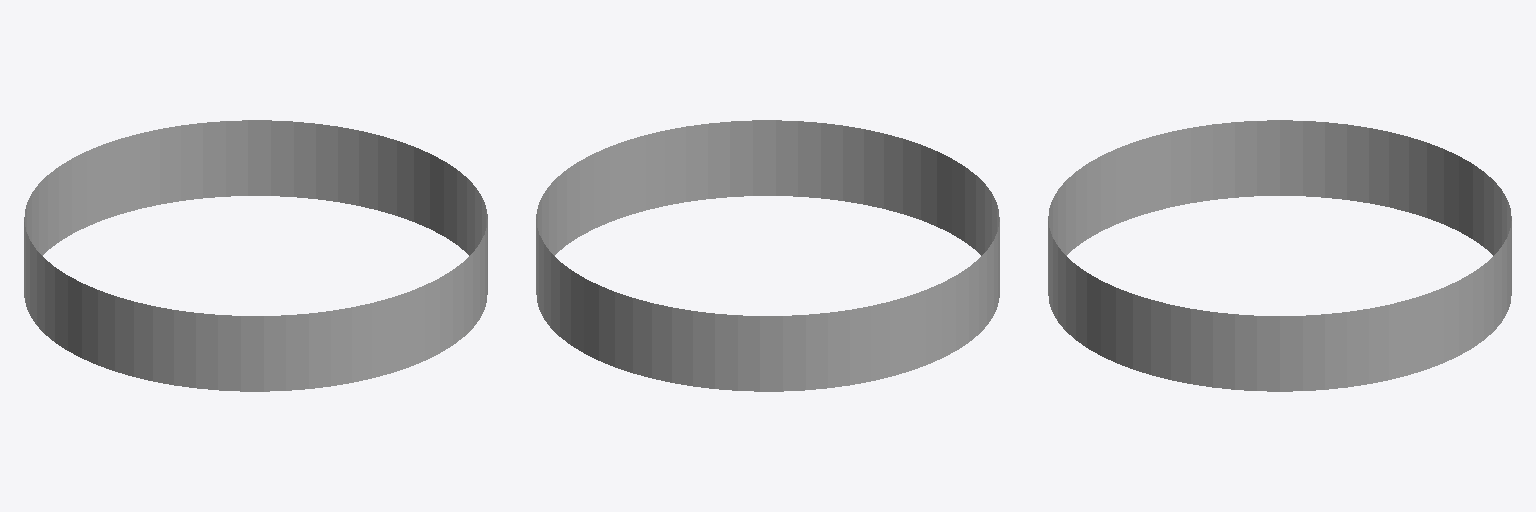
Rendered from Test_ranged_cylinder.obj.
3 renders of one model, left to right at view 1: azimuth 30°, elevation 25°; view 2: azimuth 150°, elevation 25°; view 3: azimuth 270°, elevation 25°, orthographic.
Visible parts, largest first — view 1: pCylinder2_Mesh; view 2: pCylinder2_Mesh; view 3: pCylinder2_Mesh.
Boxes of the visible parts, box(x1,y1,x2,y2) form: pCylinder2_Mesh: box(24, 120, 487, 391); pCylinder2_Mesh: box(536, 120, 999, 391); pCylinder2_Mesh: box(1048, 120, 1511, 391).
Bounding box in the file's own units: 3 × 0.54 × 3.